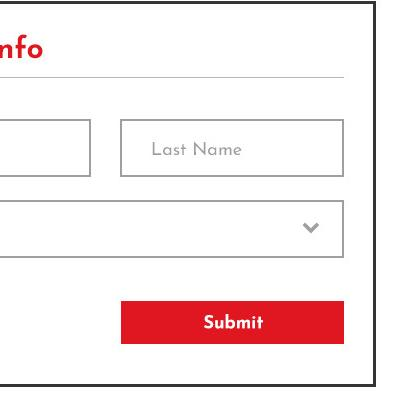button: (118, 298, 348, 347)
field: (119, 117, 347, 179)
